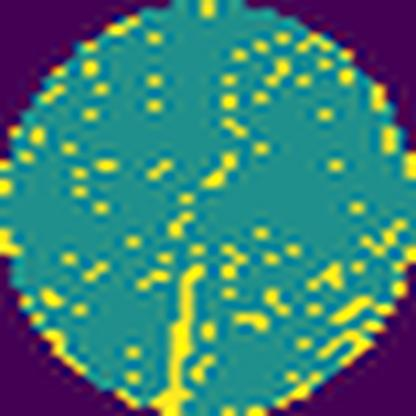Scratch: (147, 256, 215, 416)
